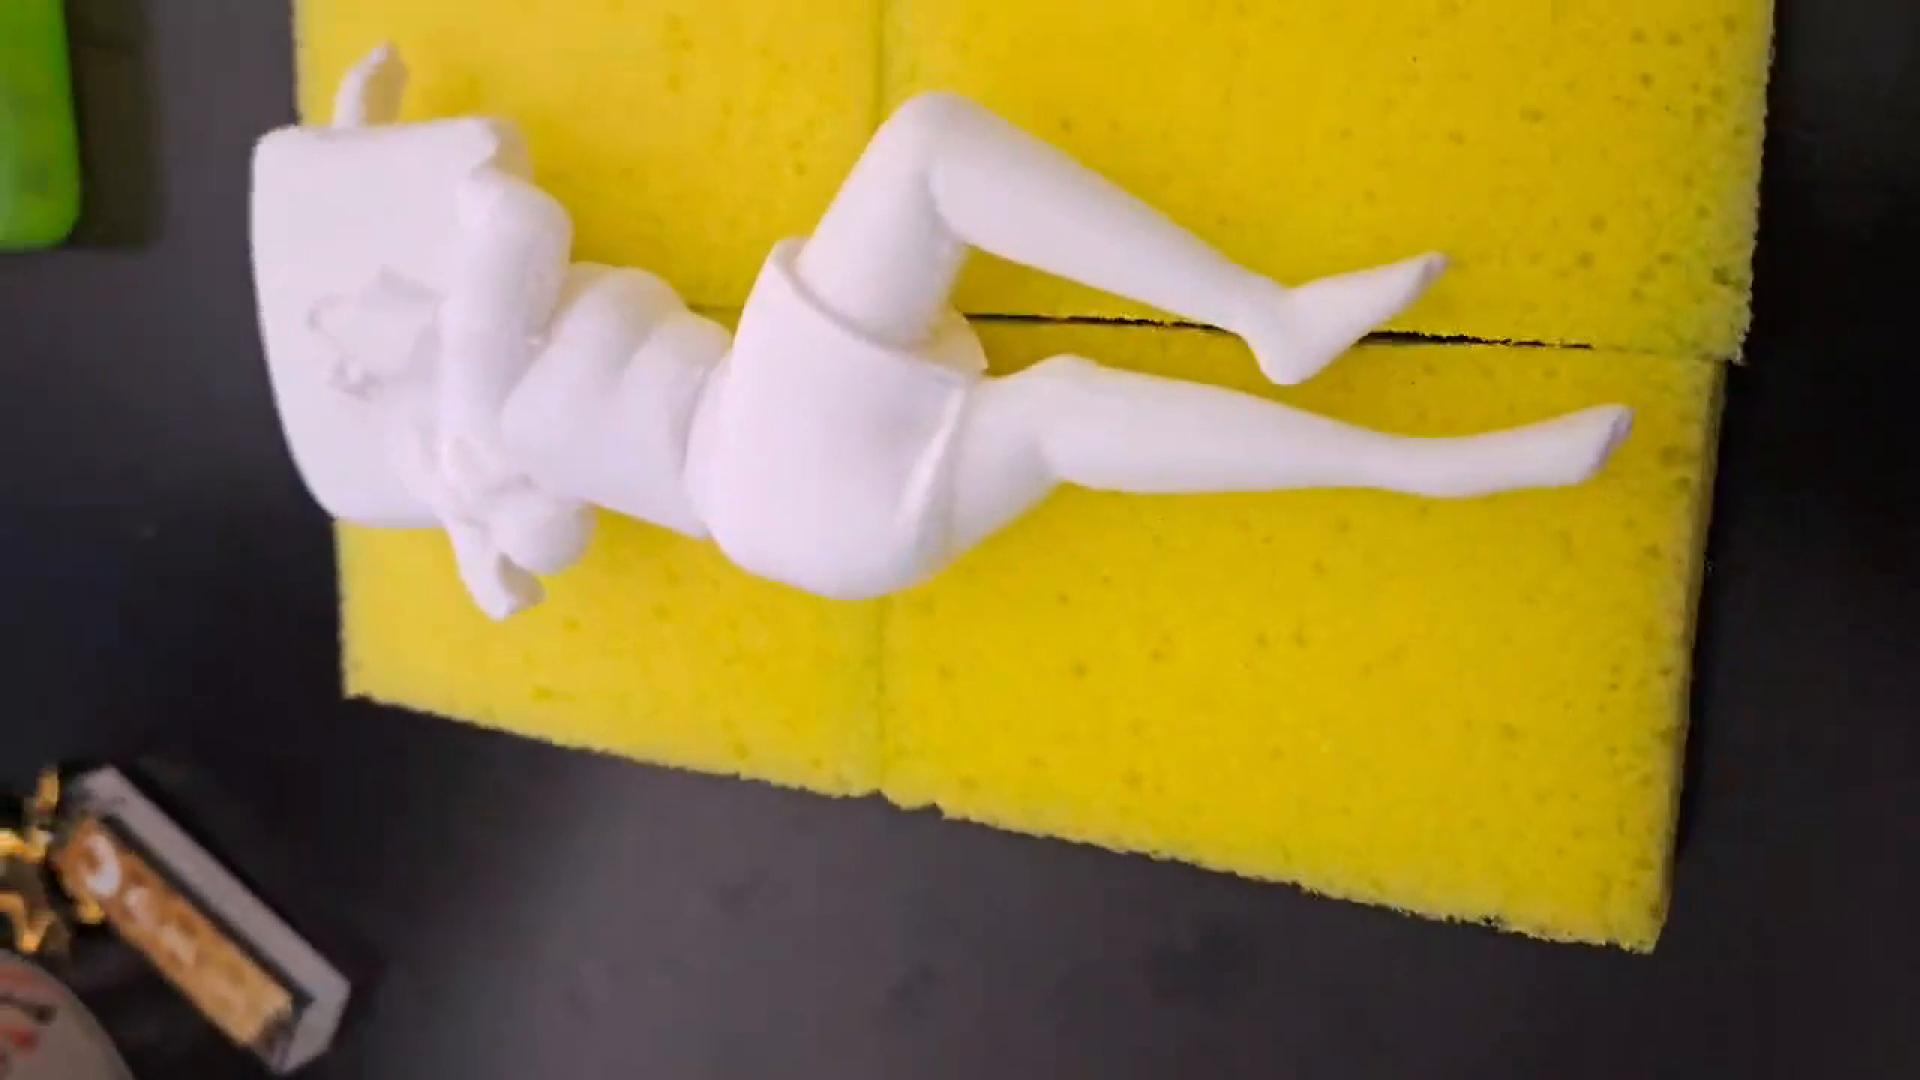Good-style: (244, 47, 1643, 632)
